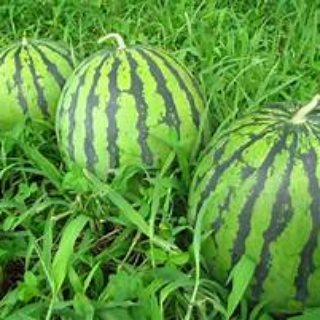dua_hau: (183, 97, 320, 308), (57, 44, 207, 198)
